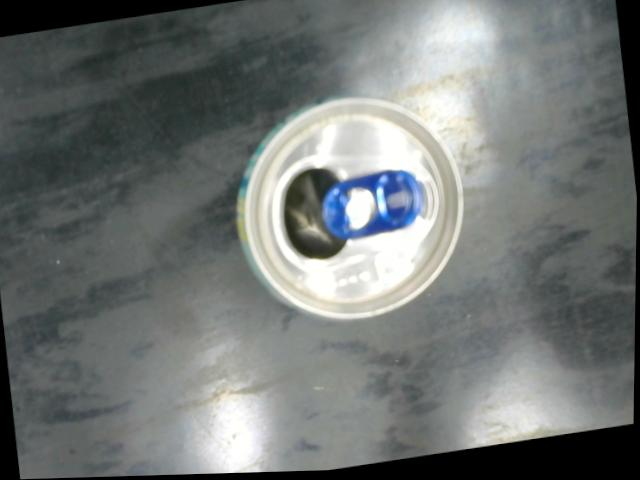can: (219, 77, 480, 341)
